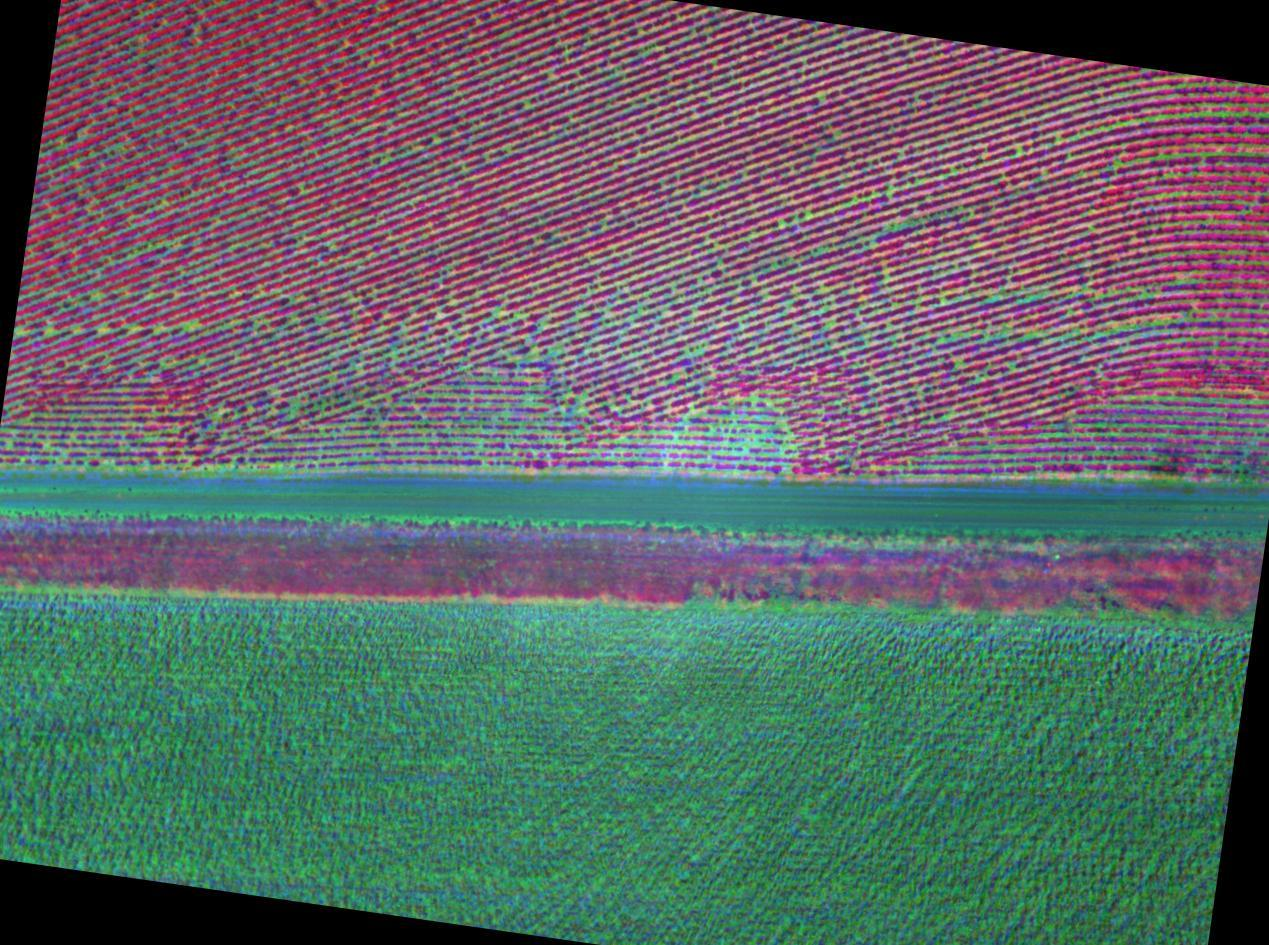dc: (494, 310, 500, 316), (186, 323, 191, 329), (1115, 161, 1120, 166), (1142, 292, 1147, 297), (99, 328, 104, 333), (732, 415, 737, 420), (1018, 150, 1022, 155), (550, 74, 554, 79), (820, 94, 824, 99), (1220, 112, 1224, 116), (72, 433, 76, 437)
